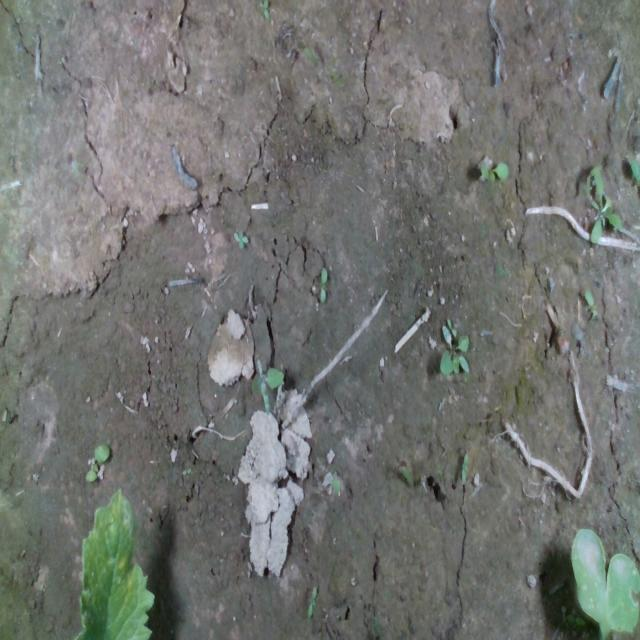weed: (84, 442, 110, 481), (478, 159, 509, 181), (232, 228, 250, 249), (460, 448, 470, 484), (307, 585, 317, 616), (319, 265, 327, 301)
